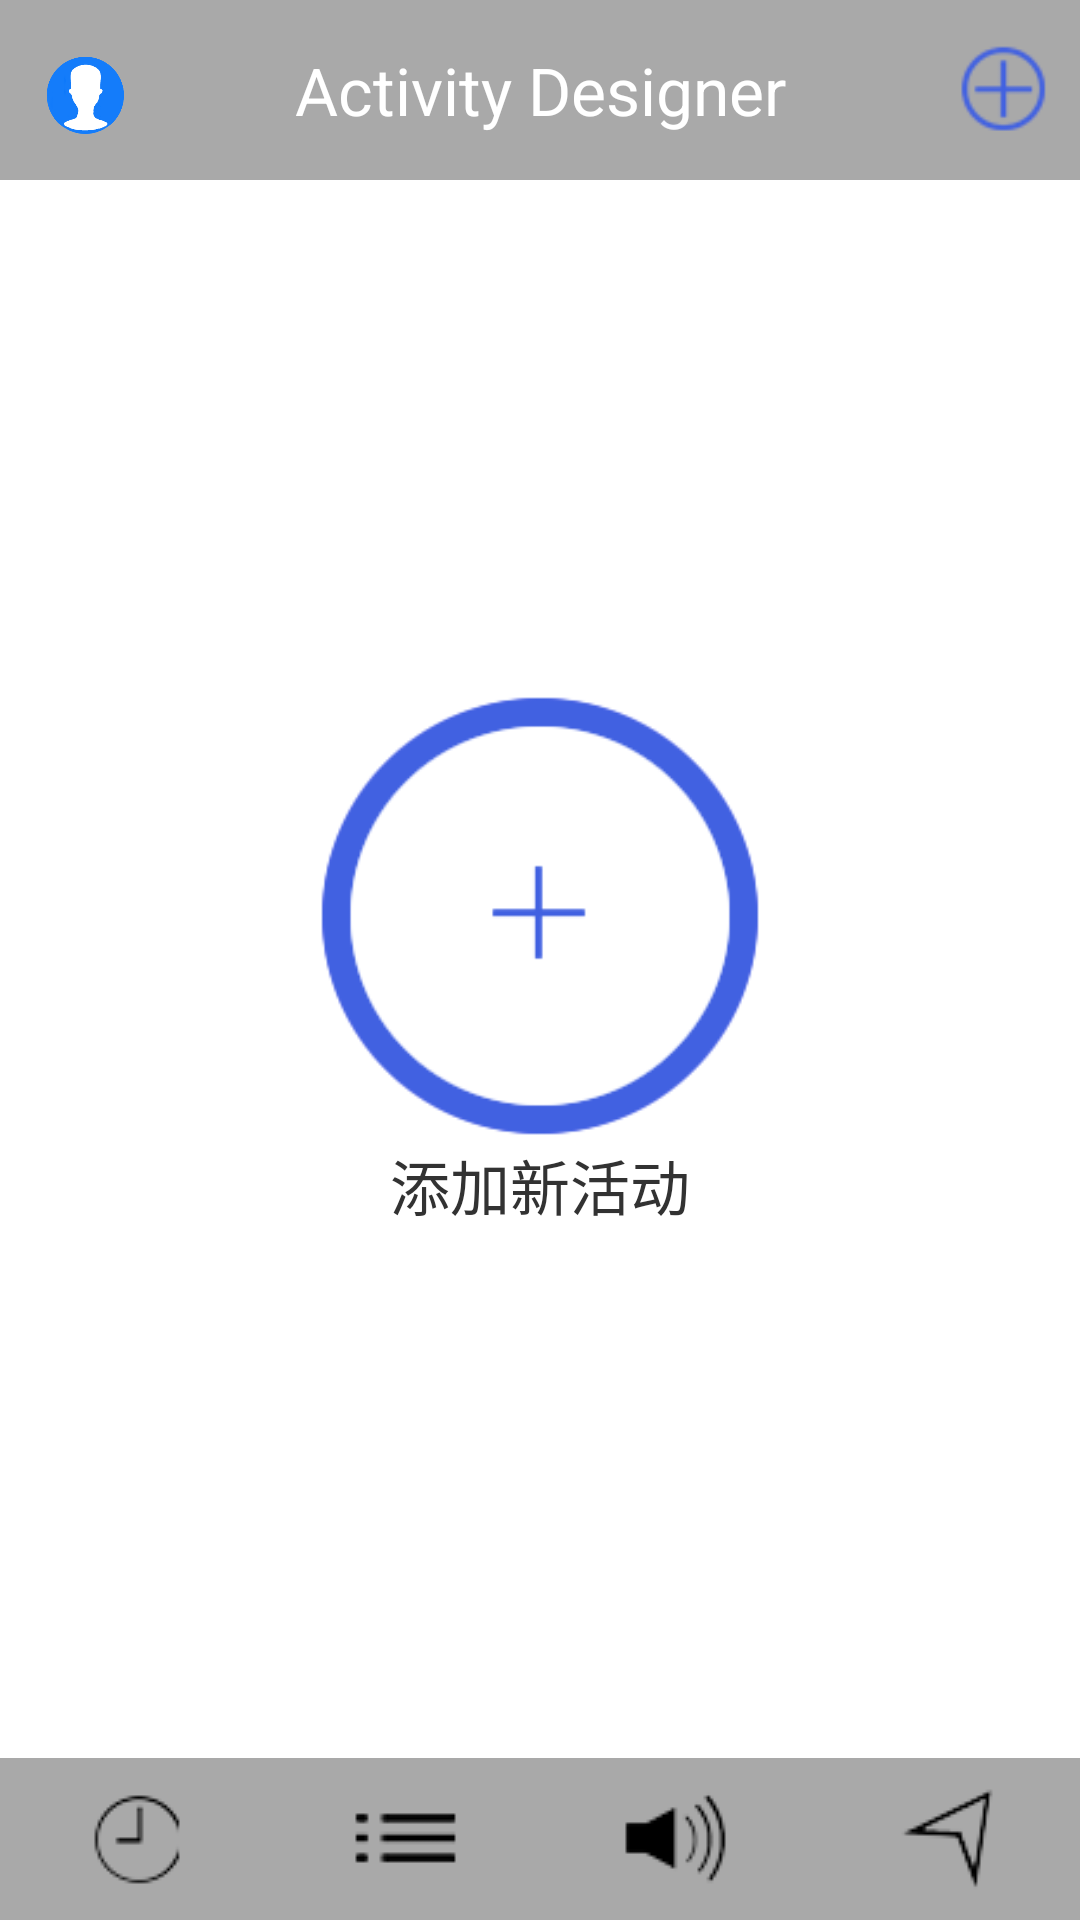

Locate icon controls on the screen. Image size 1080x1920, boxes as (x1, y1, x2, y2).
add: (961, 47, 1045, 131)
left profile: (47, 57, 124, 134)
